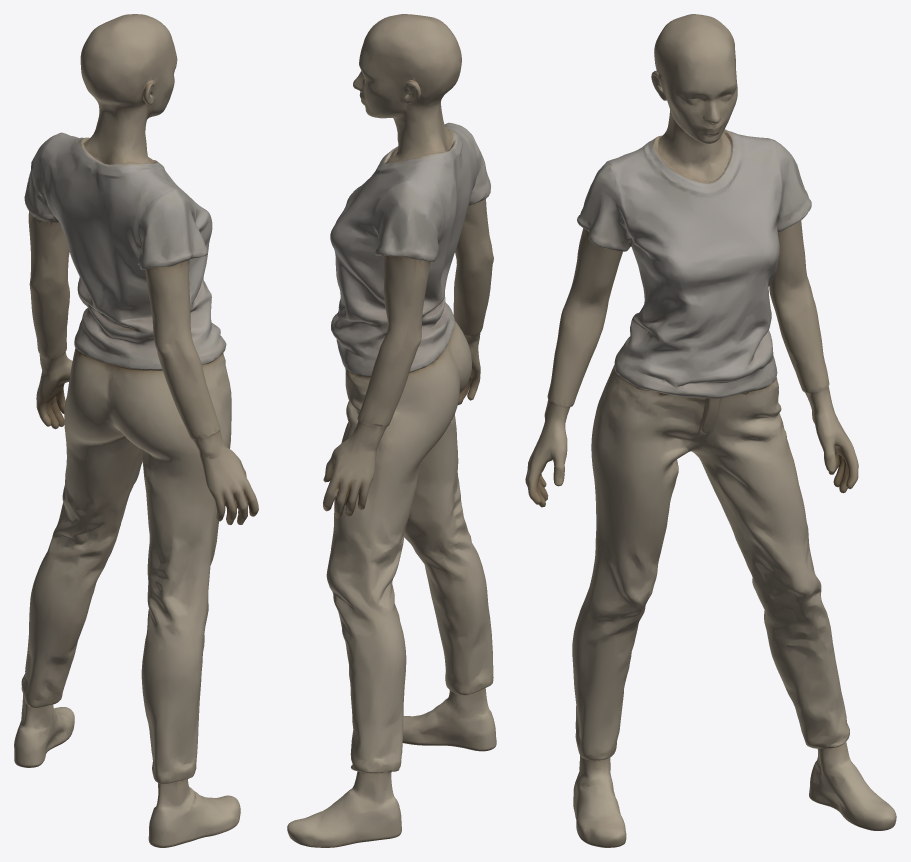
The model's file is femme-prototype.glb.
3 views of the same model, side by side, from view 1: azimuth 30°, elevation 25°; view 2: azimuth 150°, elevation 25°; view 3: azimuth 270°, elevation 25° (orthographic). The views are drawn at different scales.
Visible parts, largest first — view 1: tripo_node_03006455-d125-4304-9e06-73c3d64a8316; view 2: tripo_node_03006455-d125-4304-9e06-73c3d64a8316; view 3: tripo_node_03006455-d125-4304-9e06-73c3d64a8316.
Boxes of the visible parts, x1=… form: tripo_node_03006455-d125-4304-9e06-73c3d64a8316: x1=14, y1=14, x2=258, y2=847; tripo_node_03006455-d125-4304-9e06-73c3d64a8316: x1=287, y1=14, x2=496, y2=847; tripo_node_03006455-d125-4304-9e06-73c3d64a8316: x1=525, y1=14, x2=896, y2=847.
Bounding box in the file's own units: 0.3203 × 1.75 × 0.739.
Materials: 1 (1 with a texture image).
